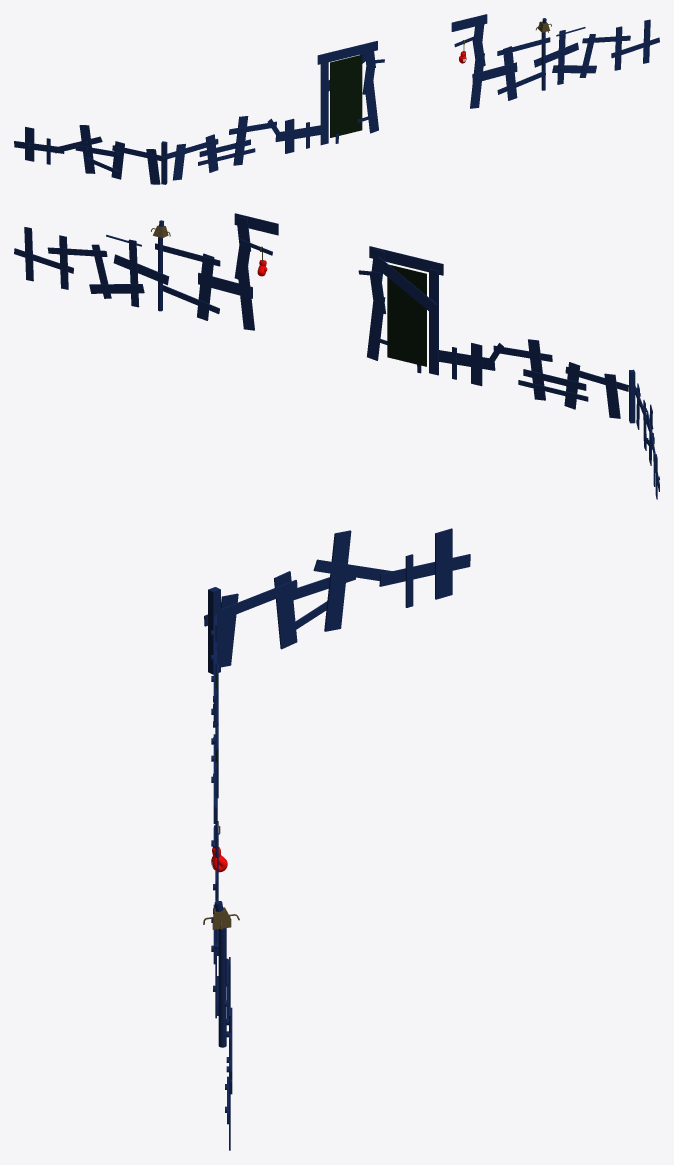
Rendered from Mesh_GreenGym_Fence.FBX.
The picture shows the model from 3 angles, top to bottom: view 1: azimuth 30°, elevation 25°; view 2: azimuth 150°, elevation 25°; view 3: azimuth 270°, elevation 25°; orthographic projection. The views are drawn at different scales.
Parts seen in each view (by area): view 1: Mesh_GreenGym_Fence; view 2: Mesh_GreenGym_Fence; view 3: Mesh_GreenGym_Fence.
Part boxes in pixels (box(x1,y1,x2,y2)): Mesh_GreenGym_Fence: box(14, 14, 659, 184); Mesh_GreenGym_Fence: box(14, 213, 659, 499); Mesh_GreenGym_Fence: box(203, 528, 470, 1150).
Size of what is drawn, in the model's own units: 3591 by 711 by 545.
